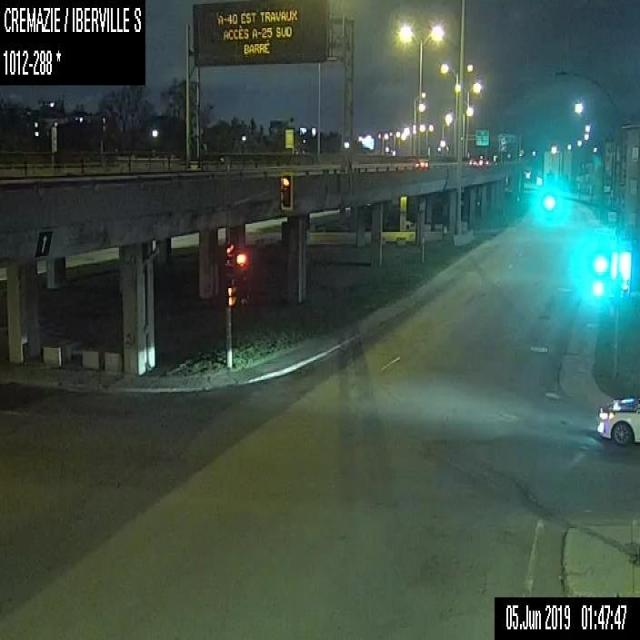vehicle: (596, 392, 639, 446), (415, 157, 429, 170), (478, 157, 489, 166), (468, 158, 478, 166)
